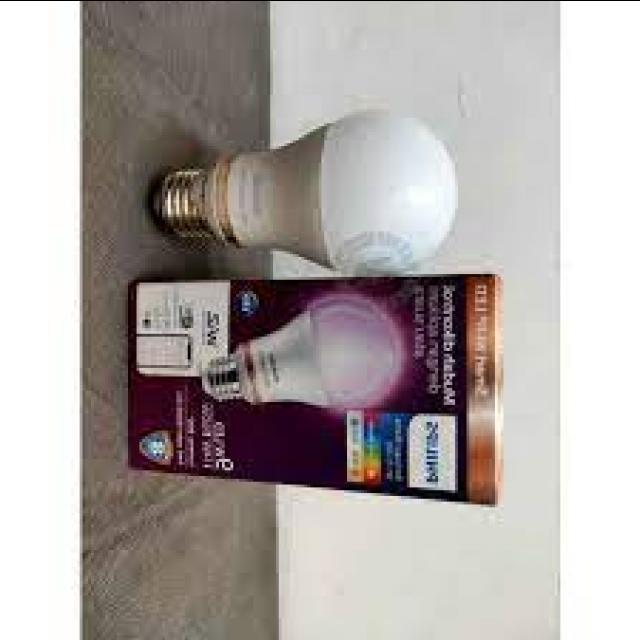light_bulb: (140, 103, 484, 297)
